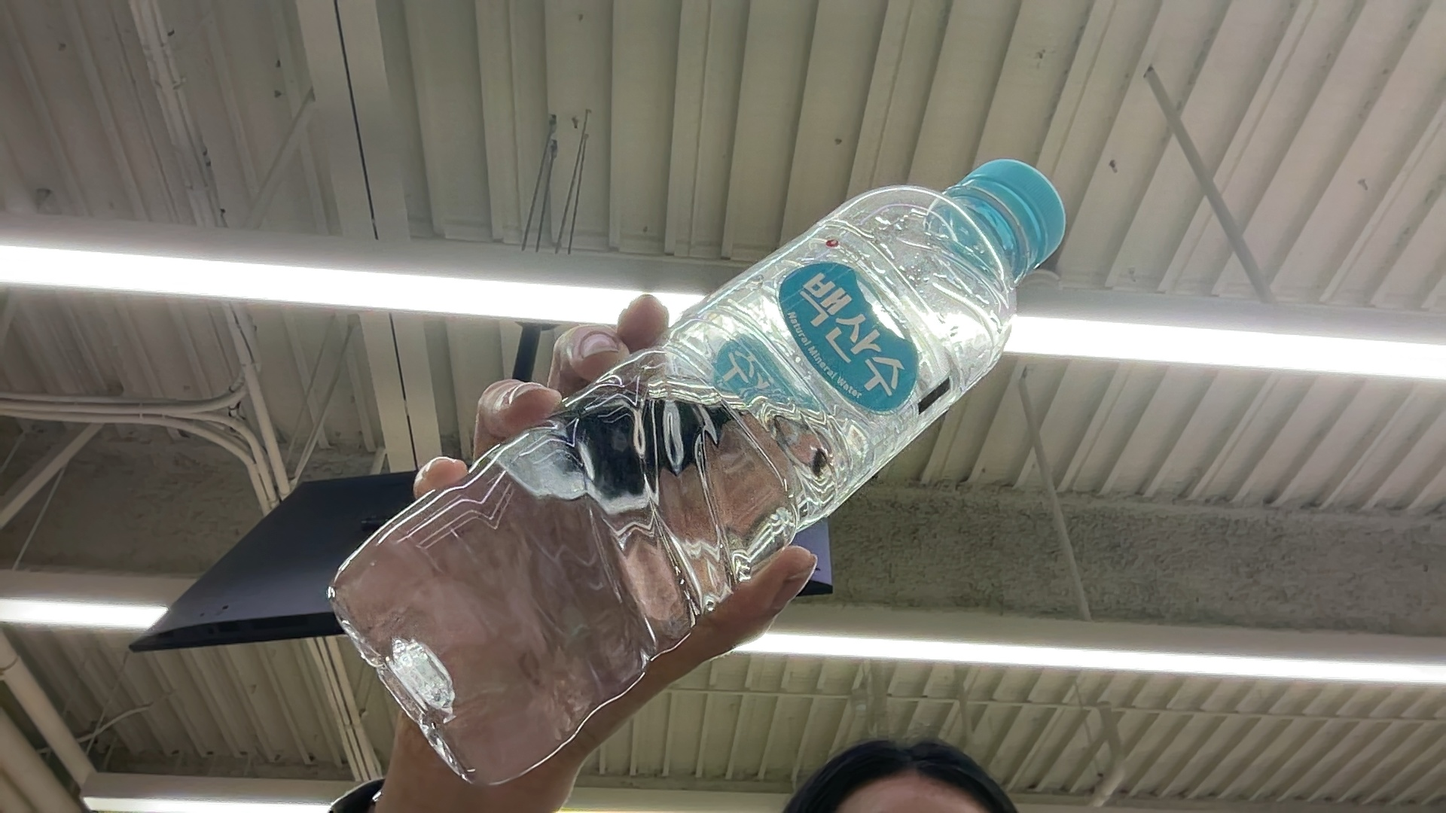Plastic: (307, 134, 1143, 749)
